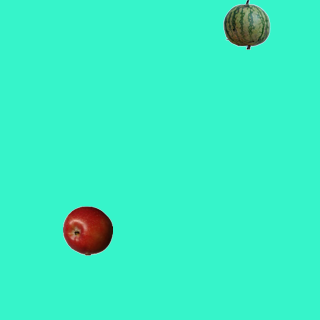Apple Braeburn: (62, 205, 112, 255)
Watermelon: (221, 0, 271, 49)
